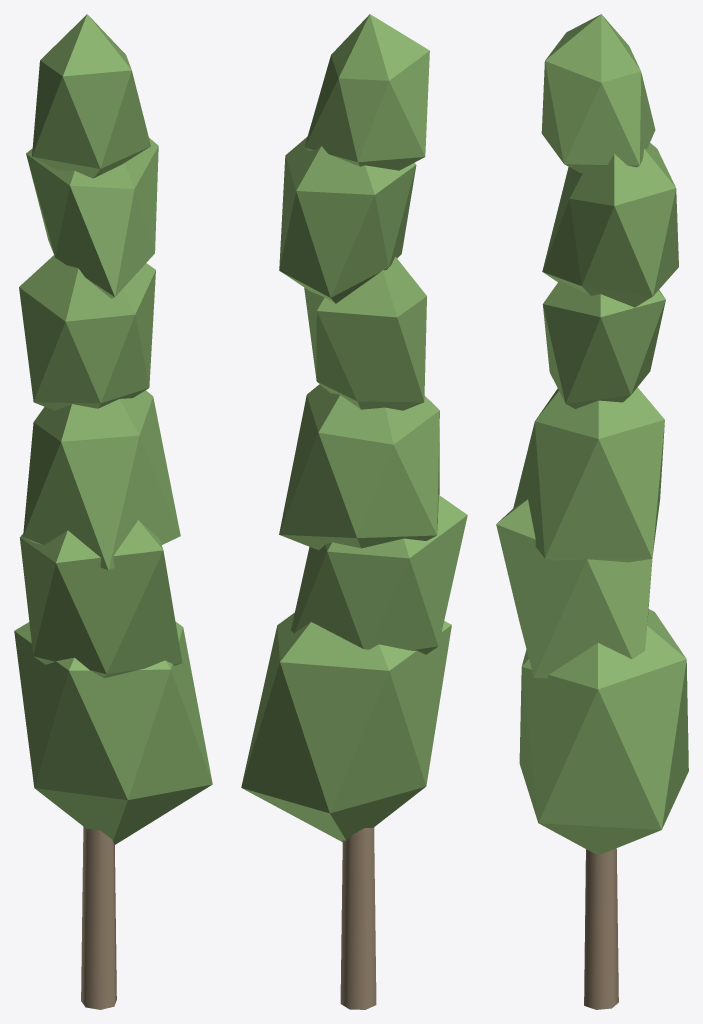
Rendered from poplar.glb.
The picture shows the model from 3 angles, left to right: view 1: azimuth 30°, elevation 25°; view 2: azimuth 150°, elevation 25°; view 3: azimuth 270°, elevation 25°; orthographic projection.
Parts seen in each view (by area): view 1: poplar; view 2: poplar; view 3: poplar.
Part boxes in pixels (left/top/right/bottom): poplar: left=14, top=14, right=212, bottom=1009; poplar: left=241, top=14, right=467, bottom=1009; poplar: left=496, top=14, right=688, bottom=1009.
Size of the model in its own units: 3.08 by 17.79 by 3.16.
